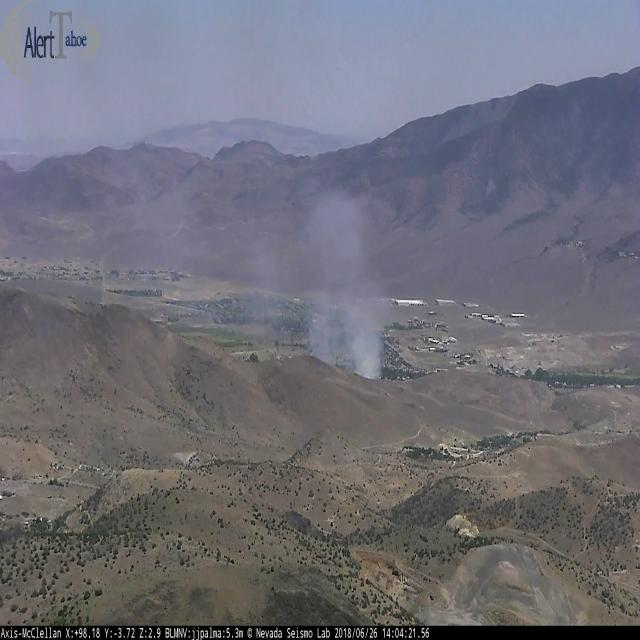smoke: (306, 190, 388, 380)
